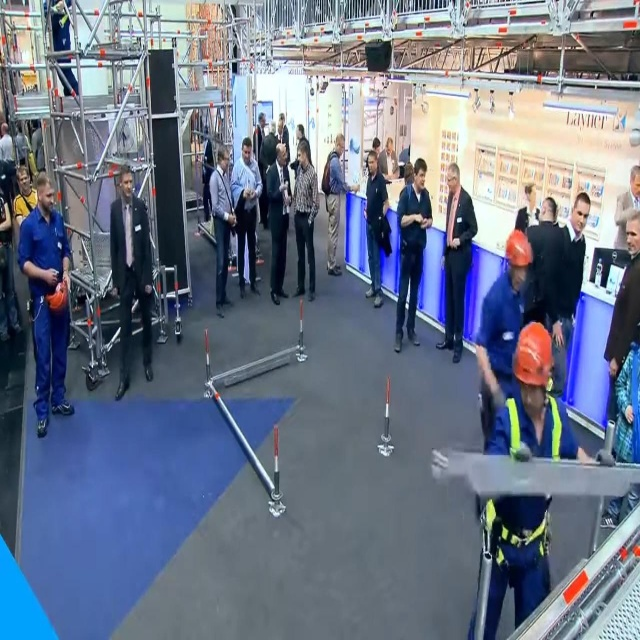Arnes_seguridad: (485, 379, 561, 577)
